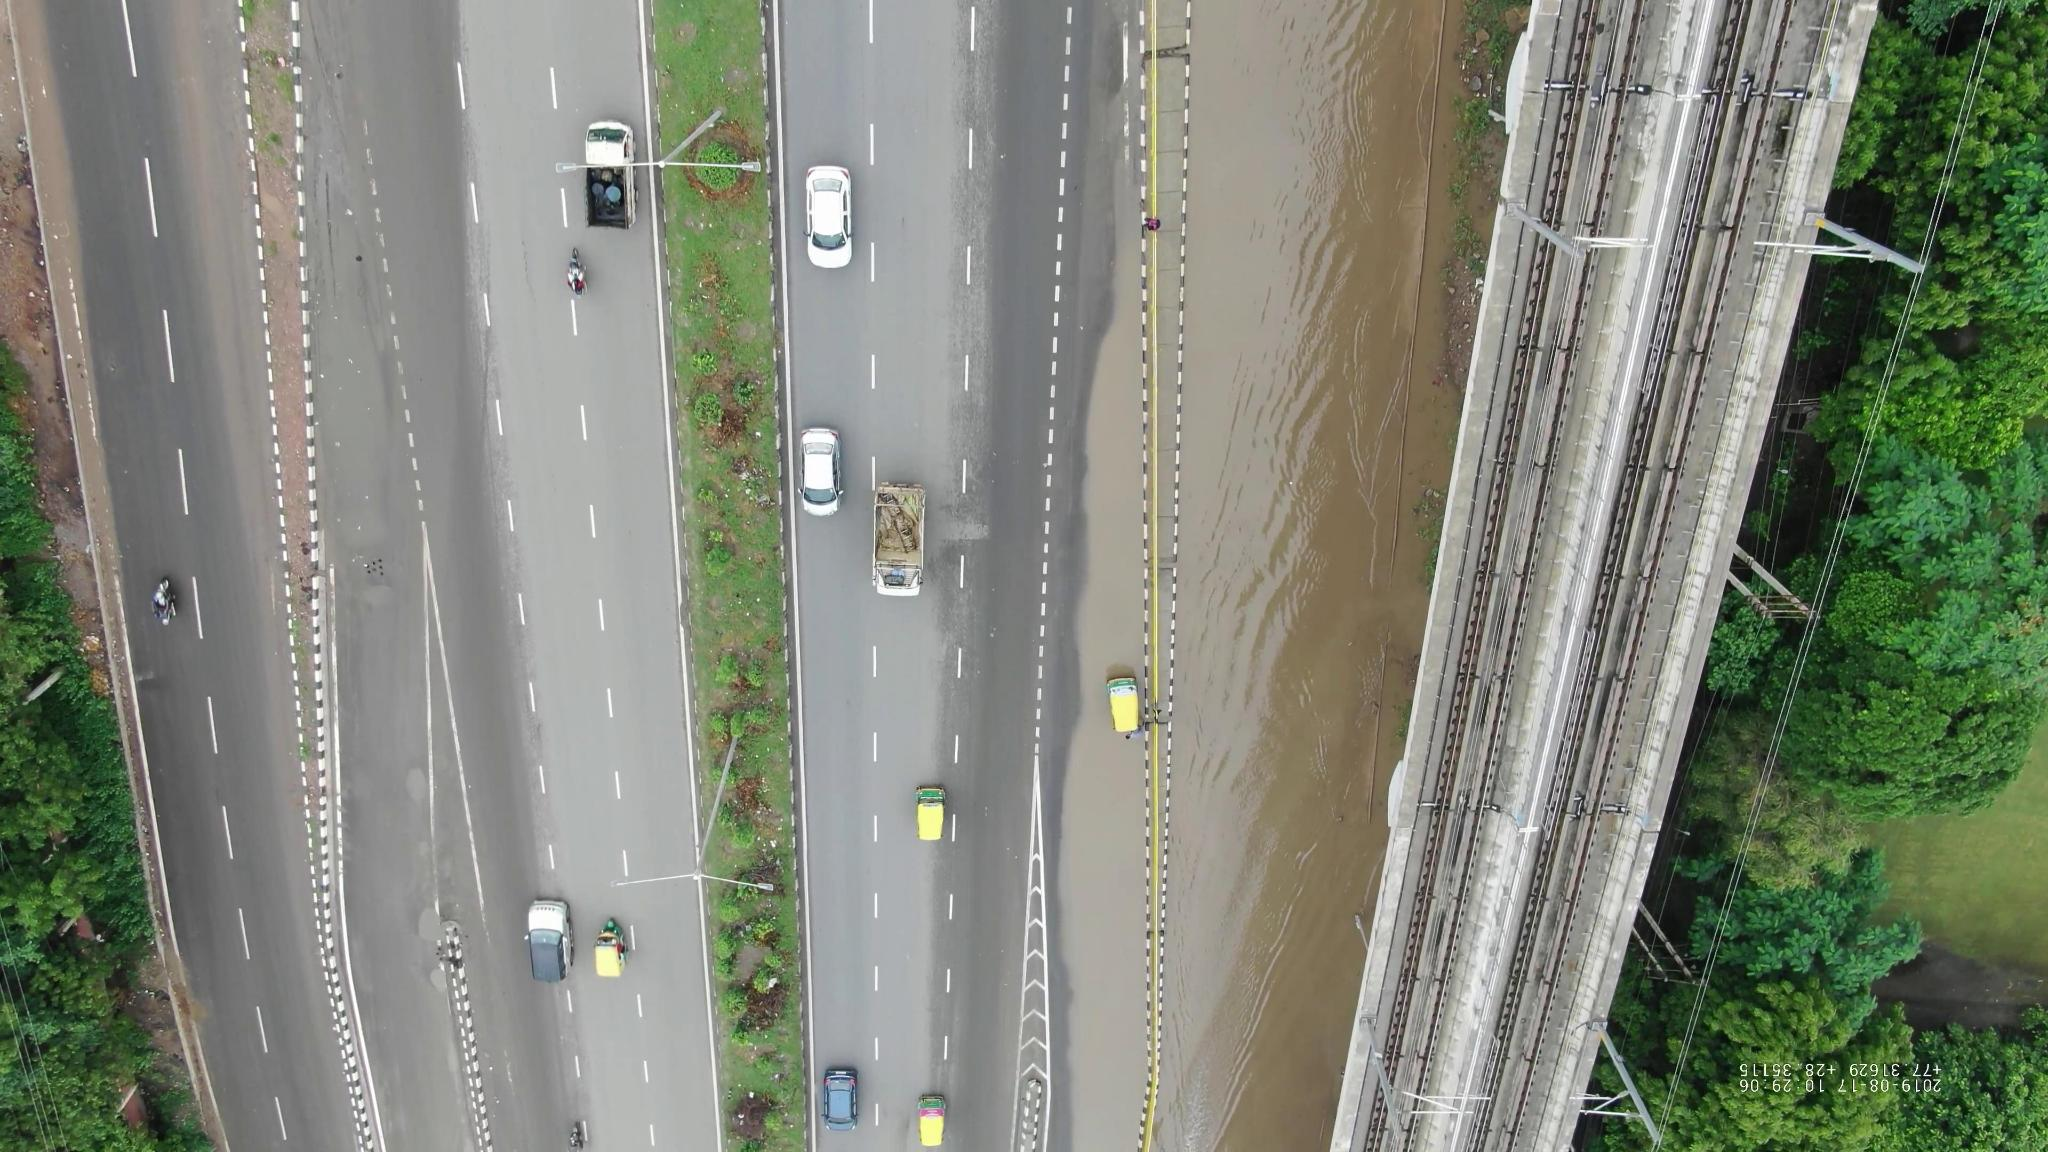Potholes: (404, 906, 466, 996), (392, 745, 452, 821), (404, 831, 461, 890), (332, 781, 359, 869), (354, 572, 399, 623)
Waterlogging: (309, 224, 409, 544)
